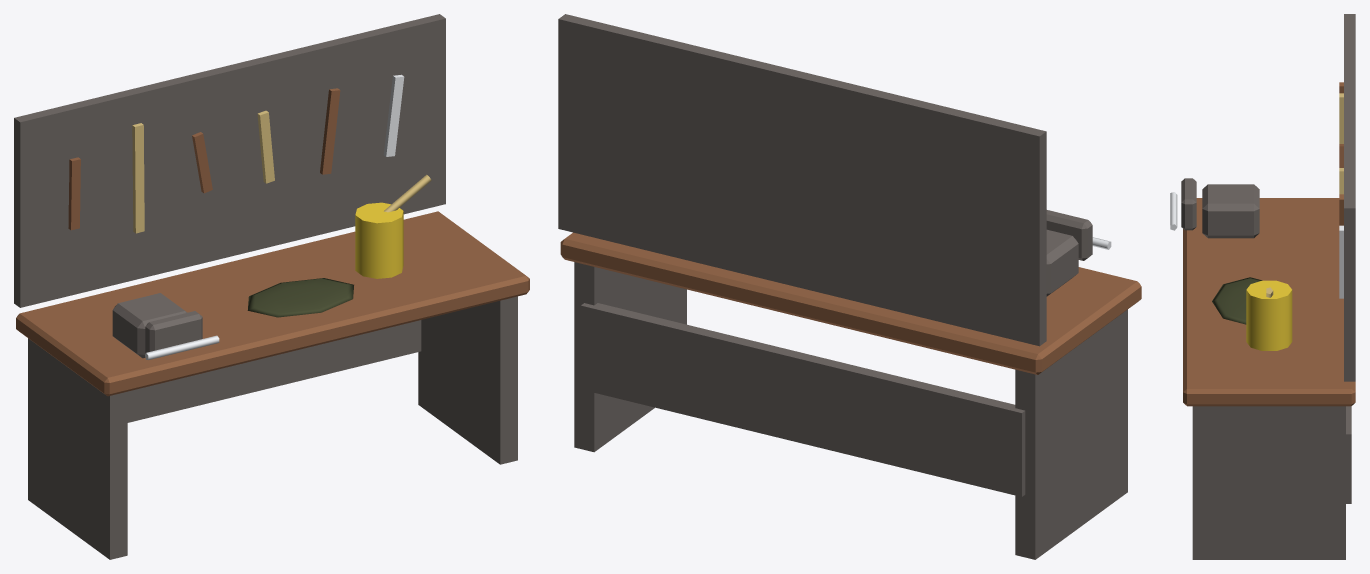
File: wk_bench.glb
3 renders of one model, left to right at view 1: azimuth 30°, elevation 25°; view 2: azimuth 150°, elevation 25°; view 3: azimuth 270°, elevation 25°, orthographic. The views are drawn at different scales.
Parts seen in each view (by area): view 1: wk_bench; view 2: wk_bench; view 3: wk_bench.
Boxes of the visible parts, bbox=[...] form: wk_bench: bbox=[14, 14, 529, 559]; wk_bench: bbox=[558, 14, 1141, 559]; wk_bench: bbox=[1170, 14, 1355, 559].
Size of the model in its own units: 2.4 by 2.05 by 0.9662.
